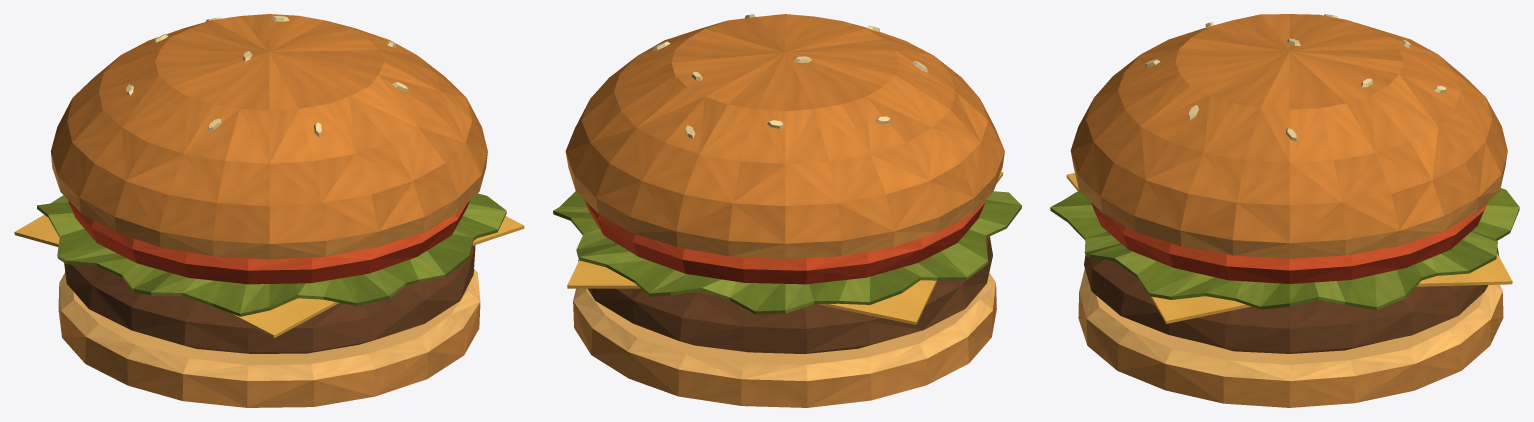
File: ClickCook_Burger.fbx
3 renders of one model, left to right at view 1: azimuth 30°, elevation 25°; view 2: azimuth 150°, elevation 25°; view 3: azimuth 270°, elevation 25°, orthographic.
Parts seen in each view (by area): view 1: 06_Golden_Top_Bun, 01_Bottom_Bun, 02_Beef_Patty, 04_Ruffled_Lettuce, 05_Tomato_Slice, 03_Draped_Cheddar; view 2: 06_Golden_Top_Bun, 01_Bottom_Bun, 02_Beef_Patty, 04_Ruffled_Lettuce, 05_Tomato_Slice, 03_Draped_Cheddar; view 3: 06_Golden_Top_Bun, 01_Bottom_Bun, 02_Beef_Patty, 04_Ruffled_Lettuce, 05_Tomato_Slice, 03_Draped_Cheddar.
Part boxes in pixels (x1,y1,x2,y2): 06_Golden_Top_Bun: (50,14,487,259); 01_Bottom_Bun: (58,269,480,407); 02_Beef_Patty: (64,245,475,353); 04_Ruffled_Lettuce: (37,193,506,316); 05_Tomato_Slice: (68,200,469,284); 03_Draped_Cheddar: (14,214,524,338); 06_Golden_Top_Bun: (565,14,1004,259); 01_Bottom_Bun: (573,273,996,407); 02_Beef_Patty: (578,236,992,353); 04_Ruffled_Lettuce: (553,191,1021,314); 05_Tomato_Slice: (584,200,985,284); 03_Draped_Cheddar: (567,172,1003,324); 06_Golden_Top_Bun: (1070,14,1507,258); 01_Bottom_Bun: (1078,268,1503,407); 02_Beef_Patty: (1084,247,1499,353); 04_Ruffled_Lettuce: (1050,188,1519,310); 05_Tomato_Slice: (1091,202,1487,283); 03_Draped_Cheddar: (1066,173,1512,323).
Size of the model in its own units: 20.58 by 13.57 by 20.58.
Materials: 1 (1 with a texture image).
